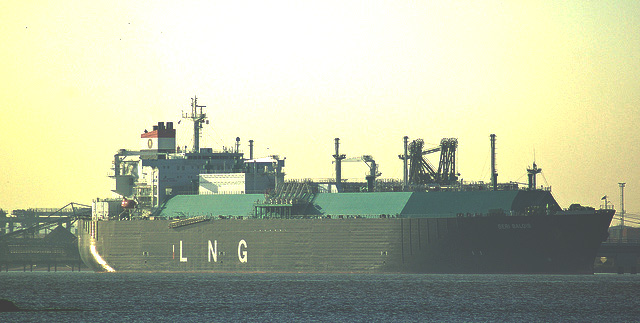LNG_ship: (71, 98, 624, 285)
